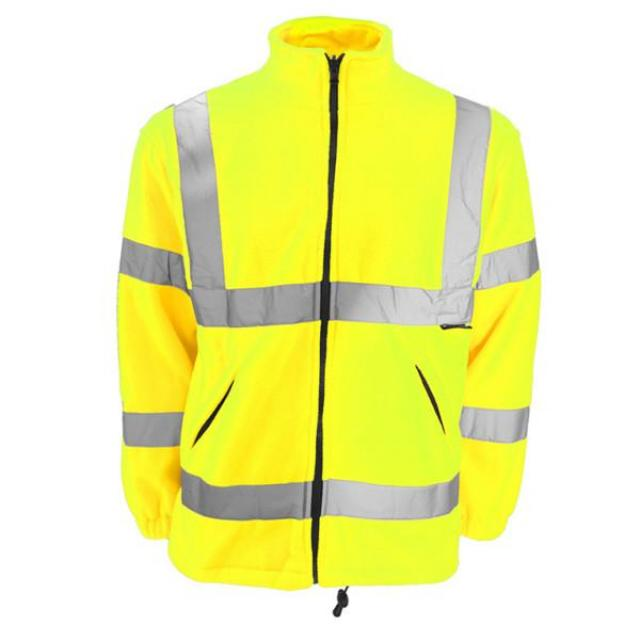Reflective-Jacket: (107, 22, 564, 606)
